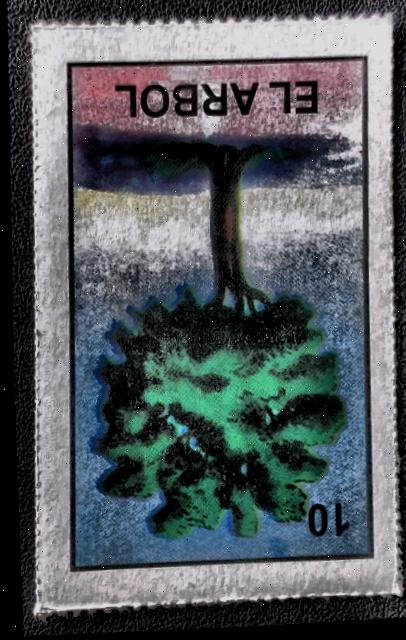El Arbol: (40, 30, 386, 595)
